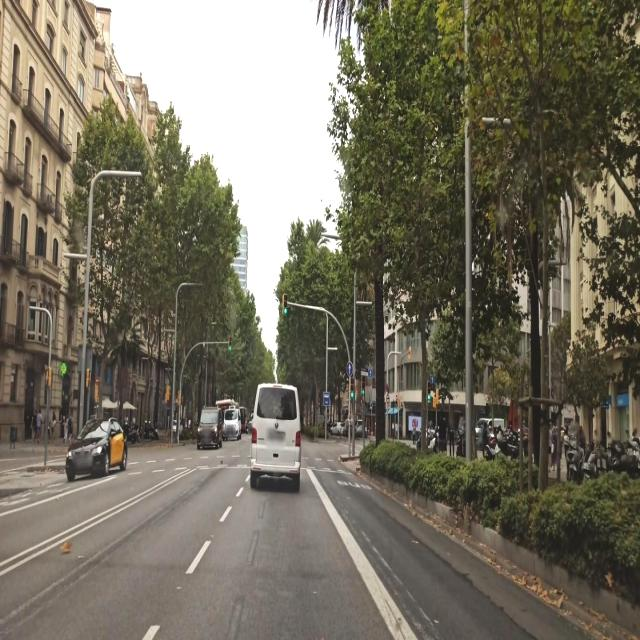car: (250, 383, 301, 492), (65, 418, 127, 482), (196, 406, 222, 450), (223, 406, 241, 441)
